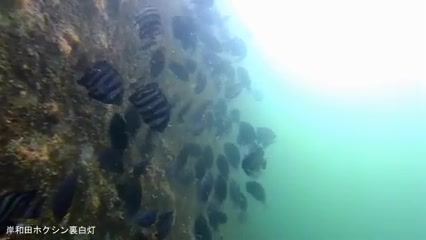ishidai: (137, 82, 172, 134), (88, 58, 131, 100)
